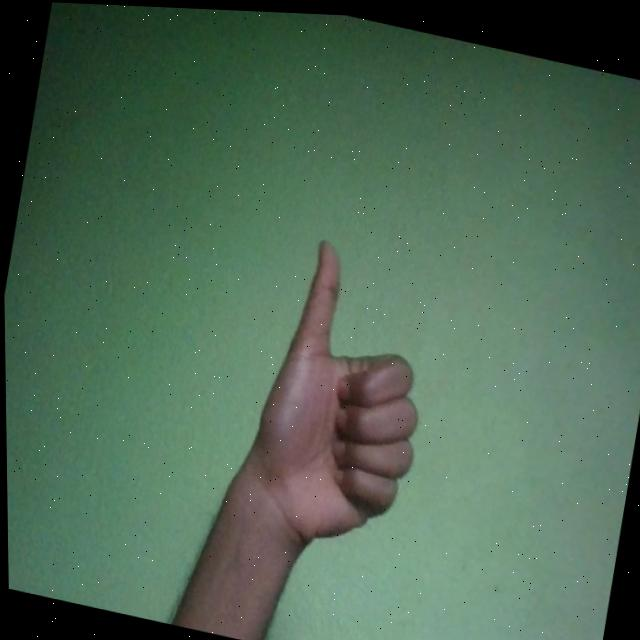Good Job: (235, 226, 448, 564)
